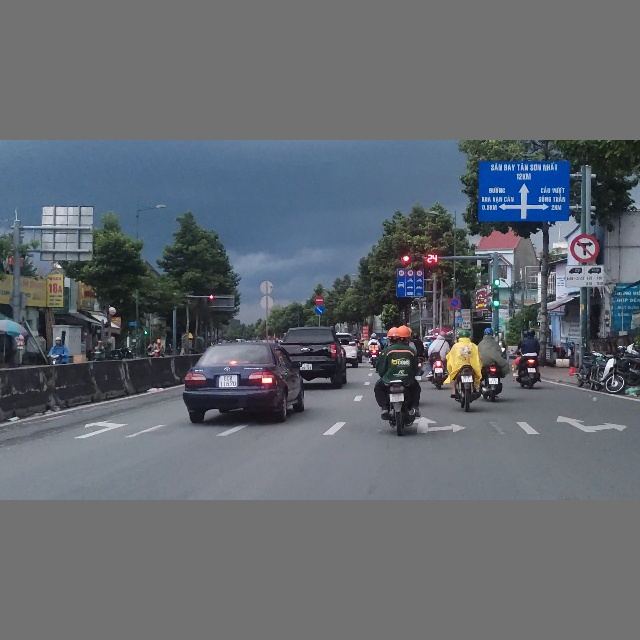P.102: (315, 296, 324, 305)
P.127*60: (398, 270, 405, 276), (407, 270, 414, 276), (417, 270, 423, 276)
P.131a: (448, 297, 461, 310)
P.137: (570, 234, 600, 262)
R.302a: (315, 306, 324, 314)
R.415a: (397, 277, 424, 297)
